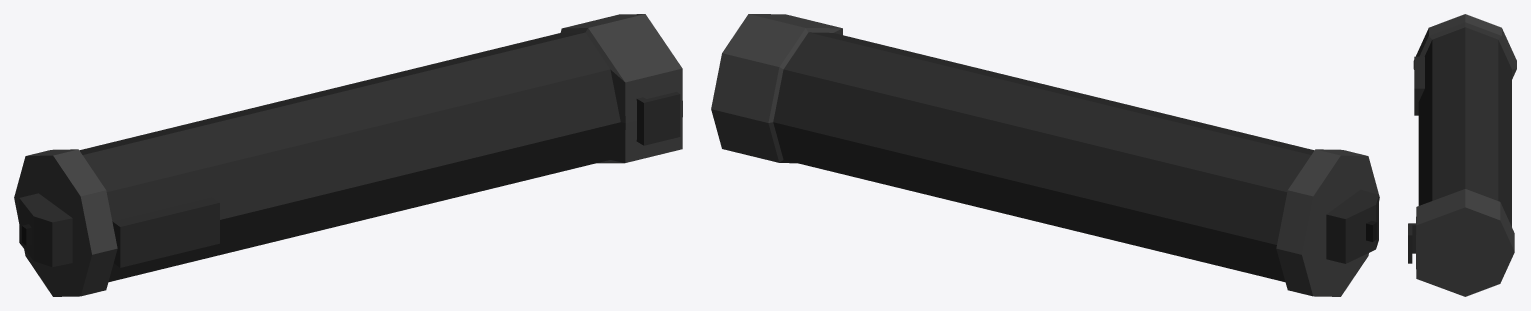
The model's file is BizonMagazine.glb.
The picture shows the model from 3 angles, left to right: view 1: azimuth 30°, elevation 25°; view 2: azimuth 150°, elevation 25°; view 3: azimuth 270°, elevation 25°; orthographic projection. The views are drawn at different scales.
Parts seen in each view (by area): view 1: BizonMagazine; view 2: BizonMagazine; view 3: BizonMagazine.
Part boxes in pixels (box(x1,y1,x2,y2)): BizonMagazine: box(14, 14, 682, 296); BizonMagazine: box(711, 14, 1379, 296); BizonMagazine: box(1408, 14, 1516, 296).
Size of the model in its own units: 1.45 by 0.3138 by 0.3312.
1 material, 1 textured.
